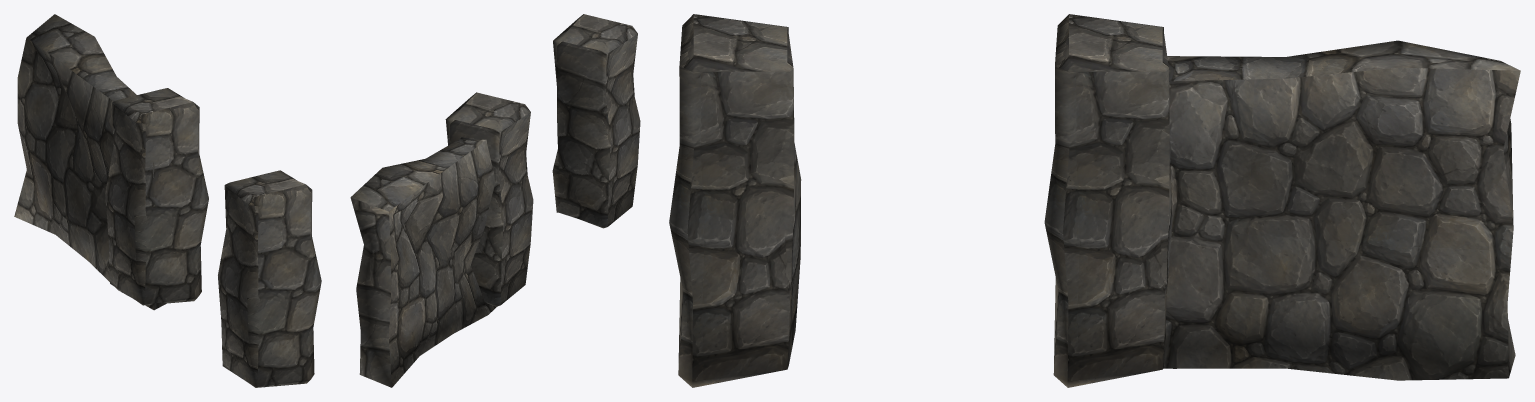
The model's file is StoneFence.fbx.
The picture shows the model from 3 angles, left to right: view 1: azimuth 30°, elevation 25°; view 2: azimuth 150°, elevation 25°; view 3: azimuth 270°, elevation 25°; orthographic projection. The views are drawn at different scales.
Visible parts, largest first — view 1: FencePeice, FencePost; view 2: FencePeice, FencePost; view 3: FencePeice, FencePost.
Boxes of the visible parts, x1,y1,x2,y2 form: FencePeice: [14, 14, 208, 310]; FencePost: [218, 170, 321, 387]; FencePeice: [350, 92, 533, 387]; FencePost: [552, 14, 640, 228]; FencePeice: [1044, 14, 1520, 387]; FencePost: [669, 14, 801, 387].
Bounding box in the file's own units: 78.55 × 207 × 474.
Materials: 1 (1 with a texture image).
